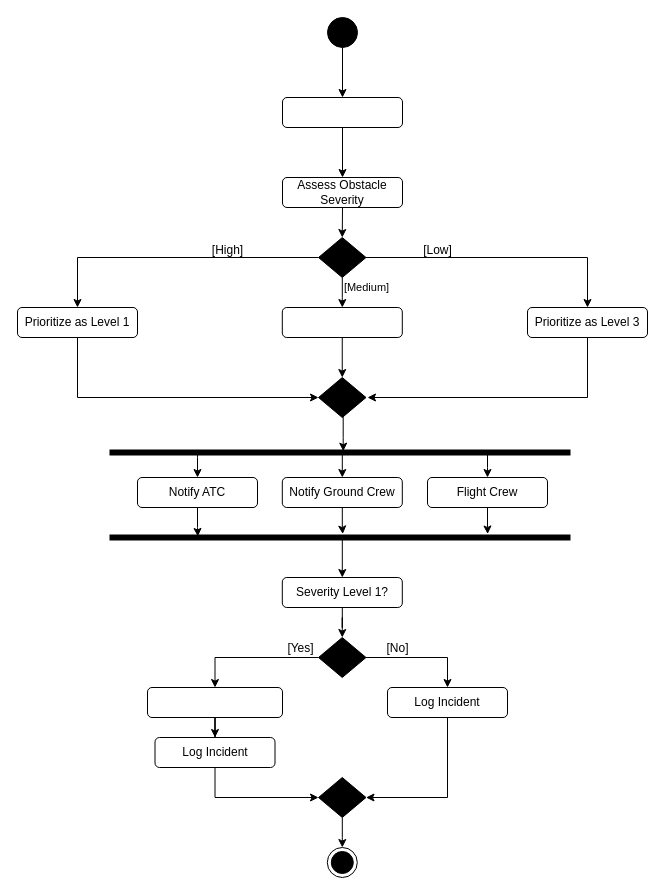
Image size: 665x895. Some labels were removed from this diagram. Here are the shapes that lost their labels. From the top down, the centre of each, then its label:
At pixel 342 112: "Receive Obstacle Information".
At pixel 341 322: "Prioritize as Level 2".
At pixel 214 702: "Escalate to Emergency Response Team".
